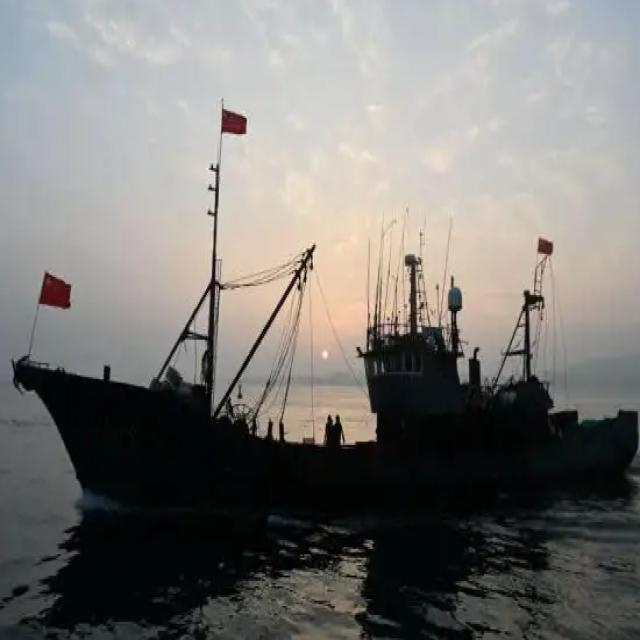fishing boat: (28, 101, 458, 517), (367, 229, 640, 488)
